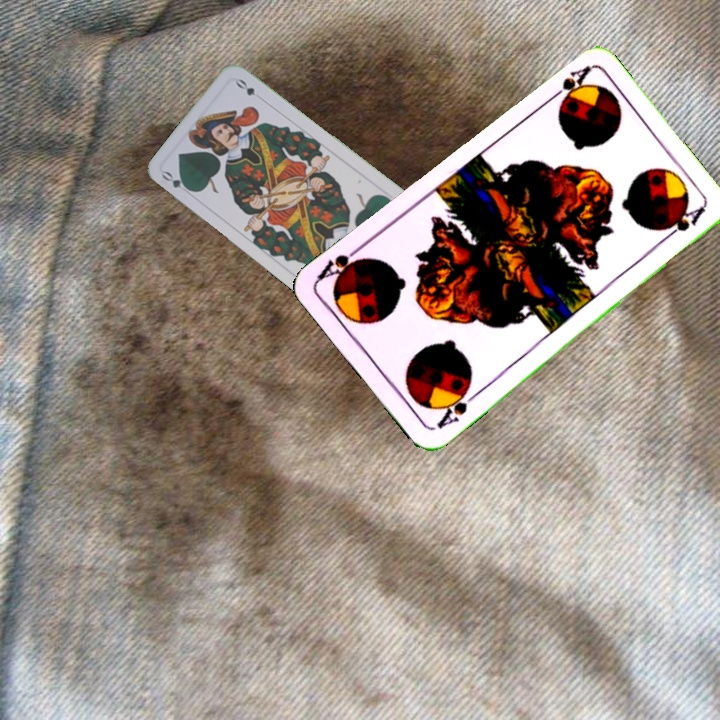GO: (158, 167, 196, 198)
SA: (432, 381, 481, 432), (542, 61, 593, 105)
